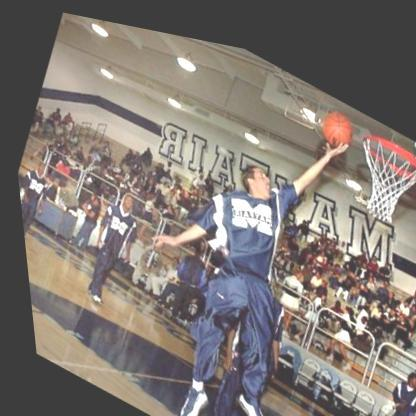basketball: (313, 91, 359, 142)
